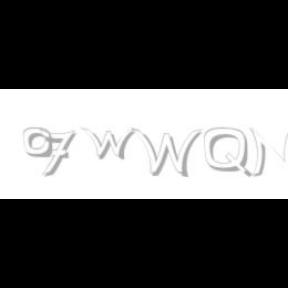7: (40, 128, 76, 178)
Q: (204, 128, 250, 178)
W: (130, 128, 202, 178)
o: (24, 128, 53, 158)
w: (82, 128, 140, 160)
